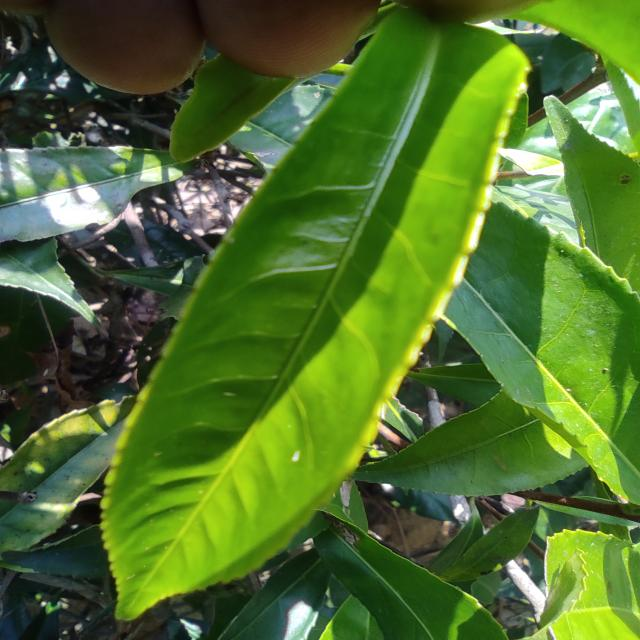Category C 4-7 days: (81, 5, 538, 636)
